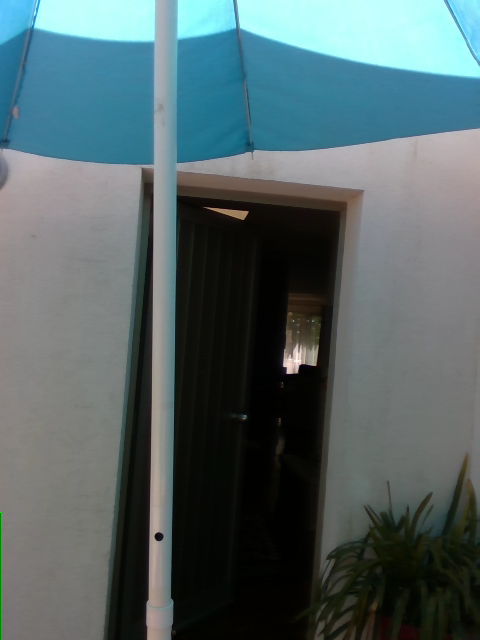semi: (105, 172, 363, 639)
